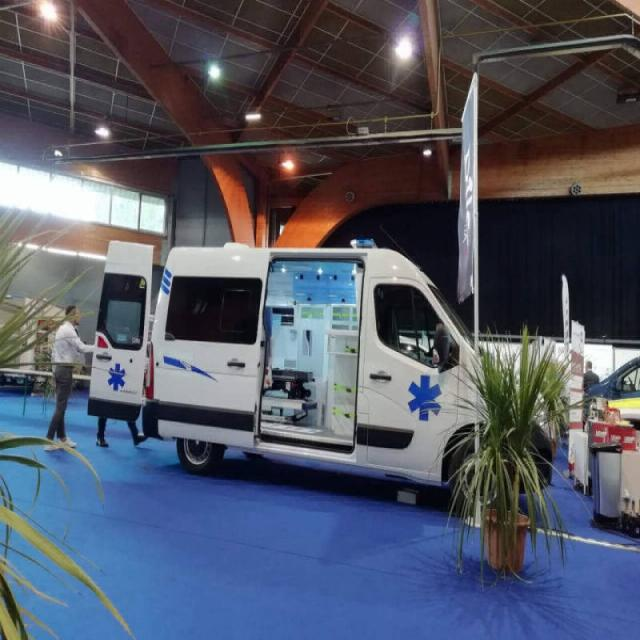ambulance: (96, 241, 540, 498)
